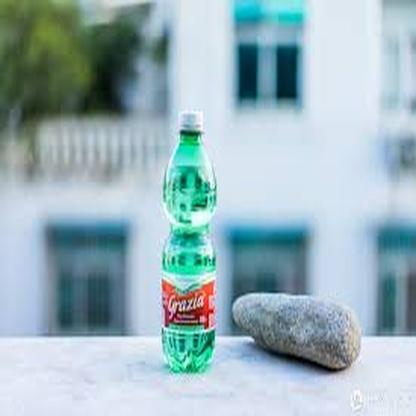plastic bottle: (163, 111, 215, 372)
